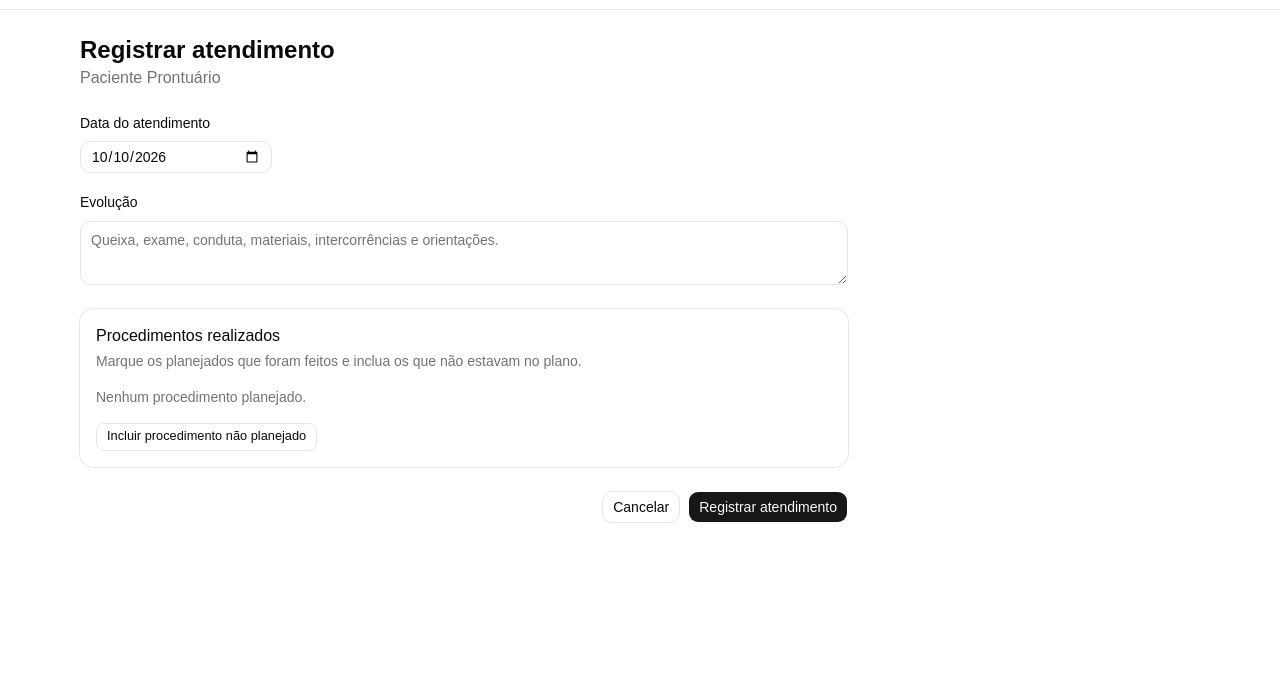
Scenario: procedimento não planejado em edição › Enter num campo do procedimento inclui o procedimento em vez de enviar o atendimento
Type "Atendimento de urgência." into the text box labelled "Evolução" at [464, 252], box [80, 220, 848, 284]
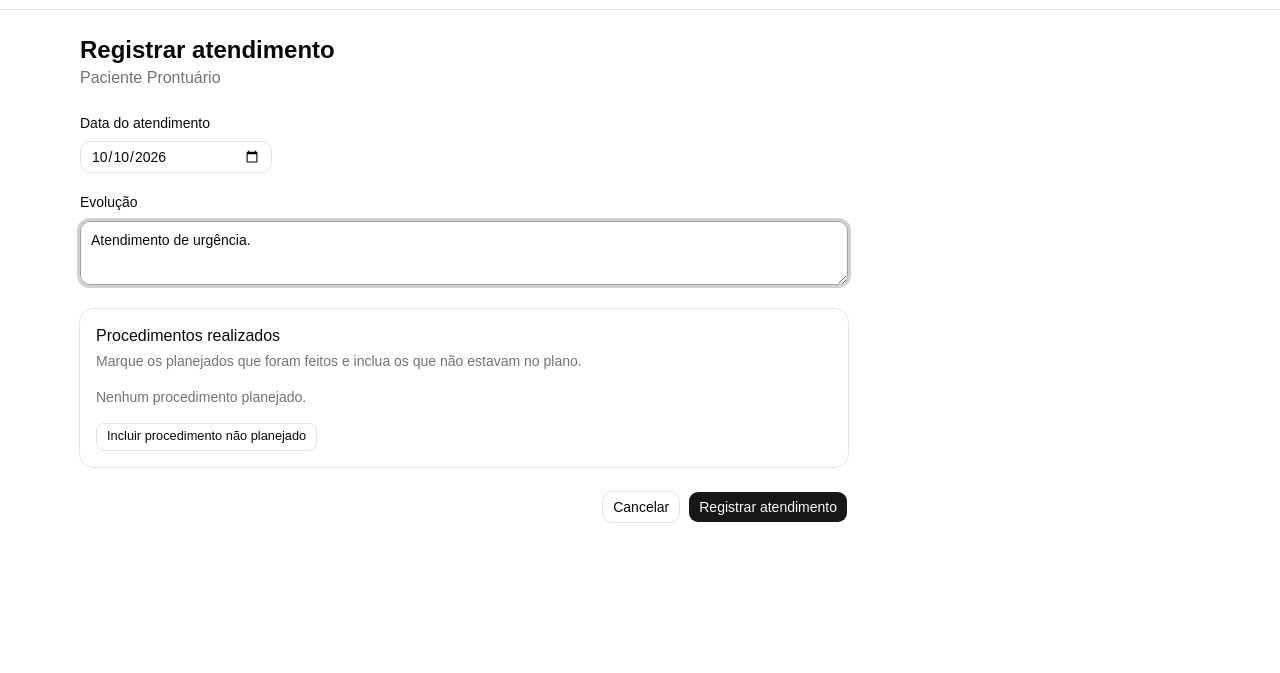
Click the button "Incluir procedimento não planejado" at [207, 436], box [96, 422, 317, 450]
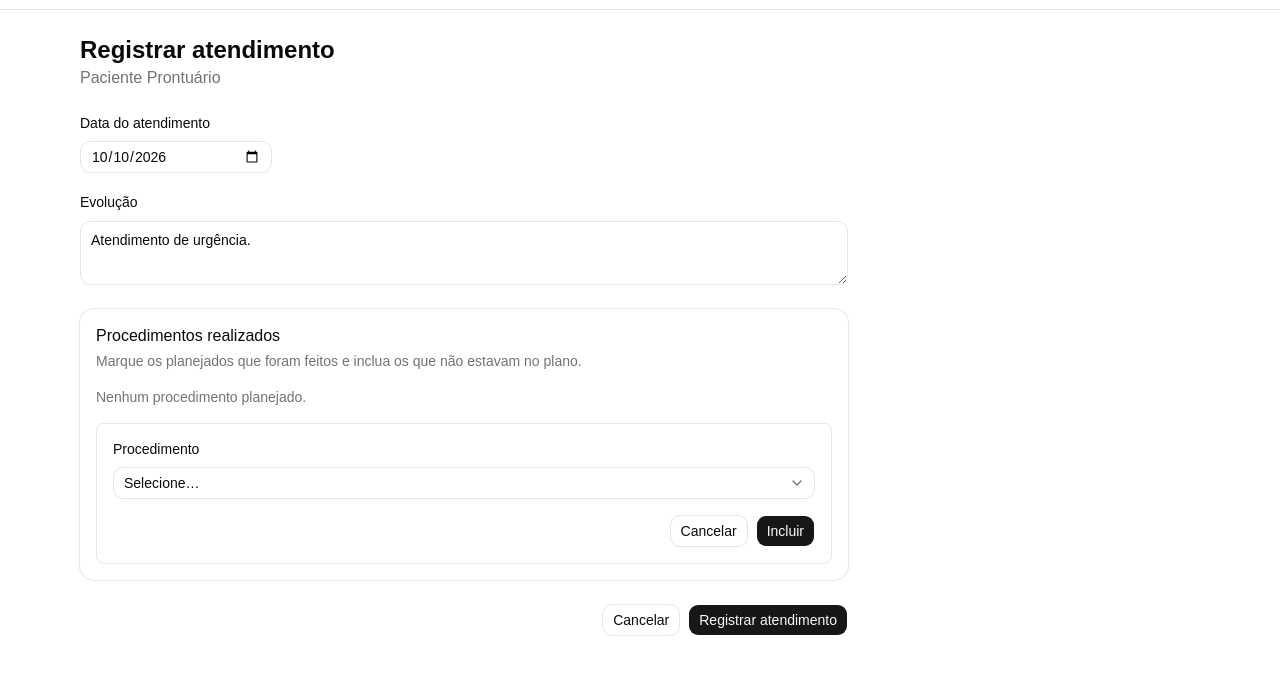
Select "Exodontia simples" in the dropdown labelled "Procedimento" at [464, 483], box [113, 467, 815, 499]
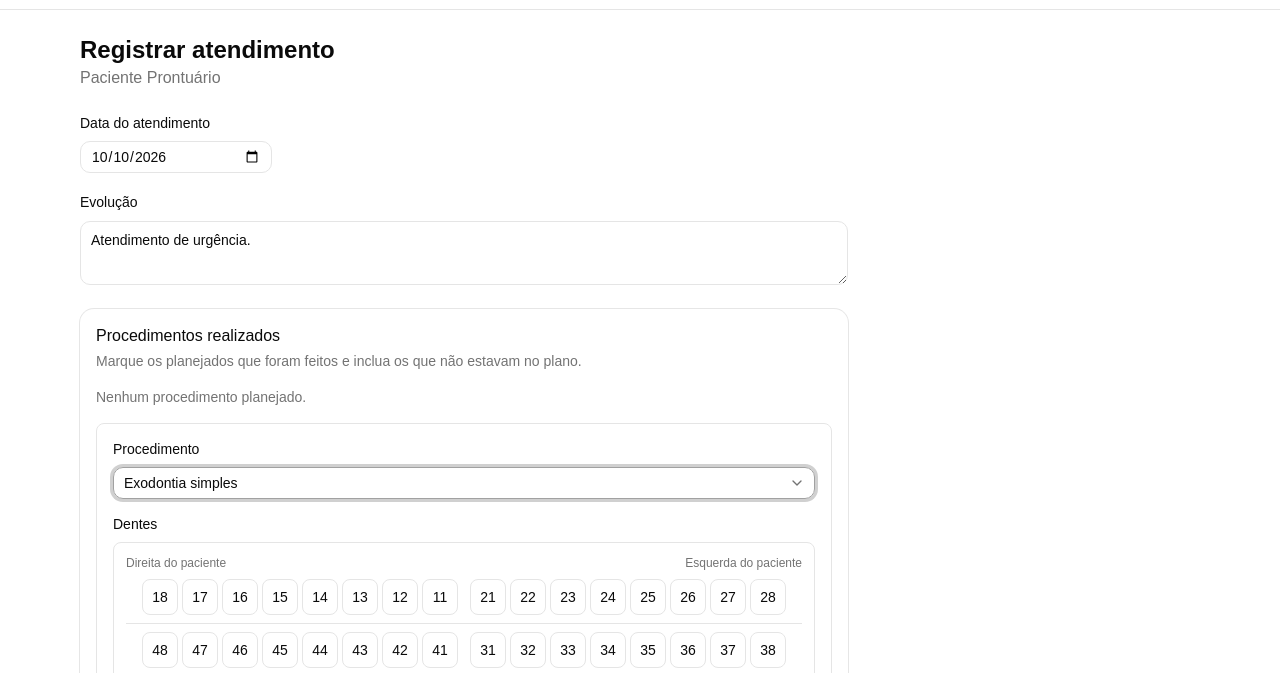
Click the button named "Dente 48" at [160, 650], box [142, 632, 178, 668]
(page scrolled)
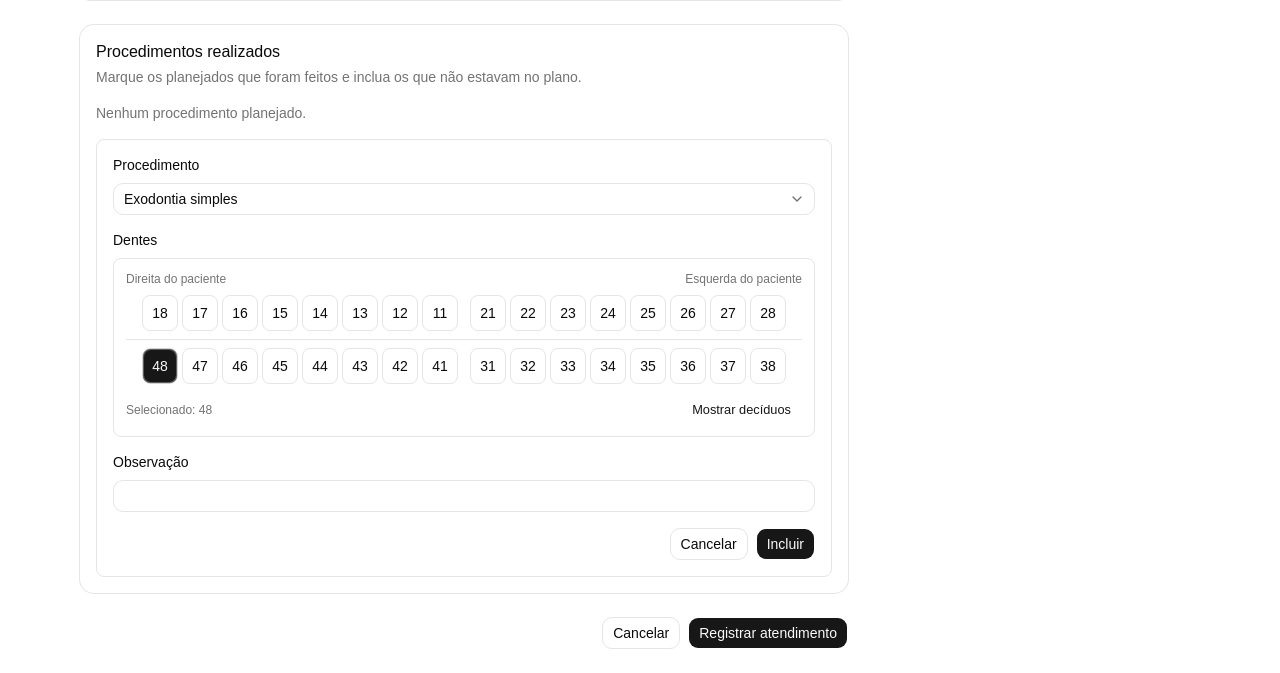
Type "Fragmento radicular" into the field labelled "Observação" at [464, 496], box [113, 480, 815, 512]
Then press Enter
(page scrolled)
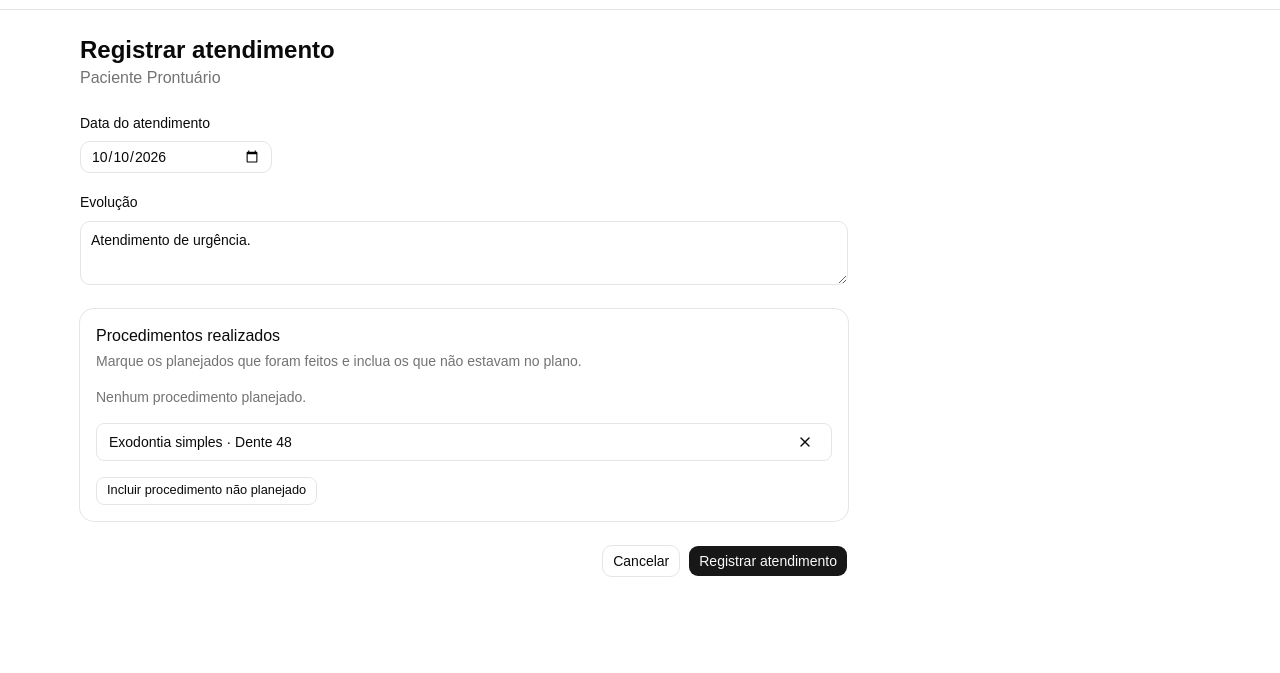
expect the list named "Procedimentos não planejados" reads "Exodontia simples · Dente 48": met, box [109, 434, 292, 450]
